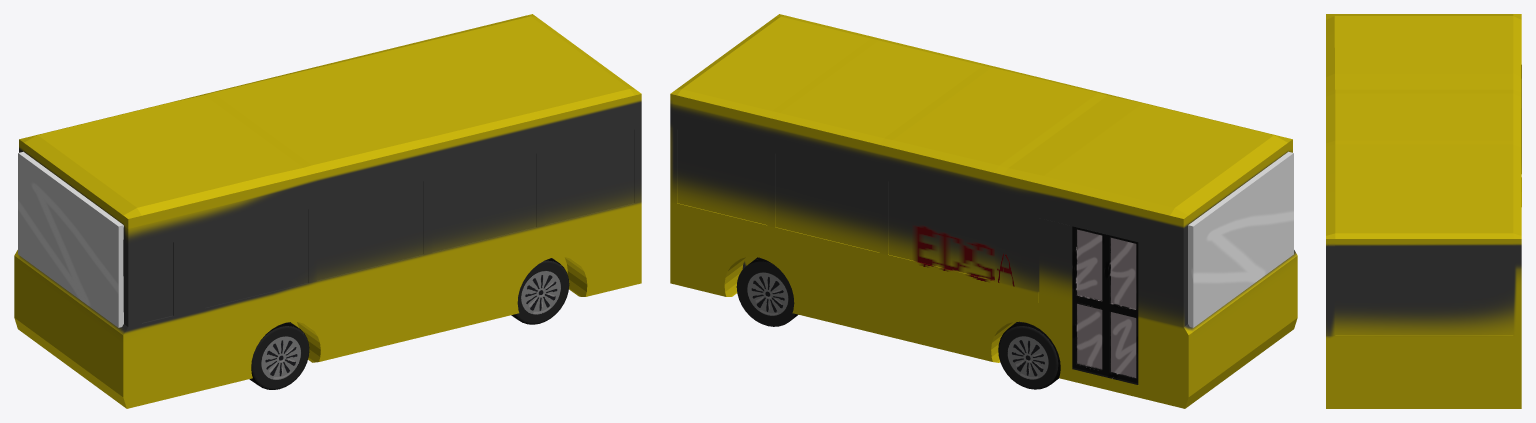
File: buss.fbx
3 renders of one model, left to right at view 1: azimuth 30°, elevation 25°; view 2: azimuth 150°, elevation 25°; view 3: azimuth 270°, elevation 25°, orthographic. The views are drawn at different scales.
Visible parts, largest first — view 1: Cube.001, Cube, Cylinder.007, Cylinder.006; view 2: Cube.001, Cube, door, Cylinder.004, Cylinder.005; view 3: Cube.001.
Part boxes in pixels (x1,y1,x2,y2): Cube.001: (14, 14, 641, 408); Cube: (18, 151, 123, 327); Cylinder.007: (249, 322, 309, 389); Cylinder.006: (511, 258, 569, 324); Cube.001: (670, 14, 1297, 408); Cube: (1188, 151, 1293, 327); door: (1072, 226, 1138, 384); Cylinder.004: (998, 321, 1060, 389); Cylinder.005: (736, 257, 798, 326); Cube.001: (1326, 14, 1521, 408).
Size of the model in its own units: 2382 by 947 by 868.
